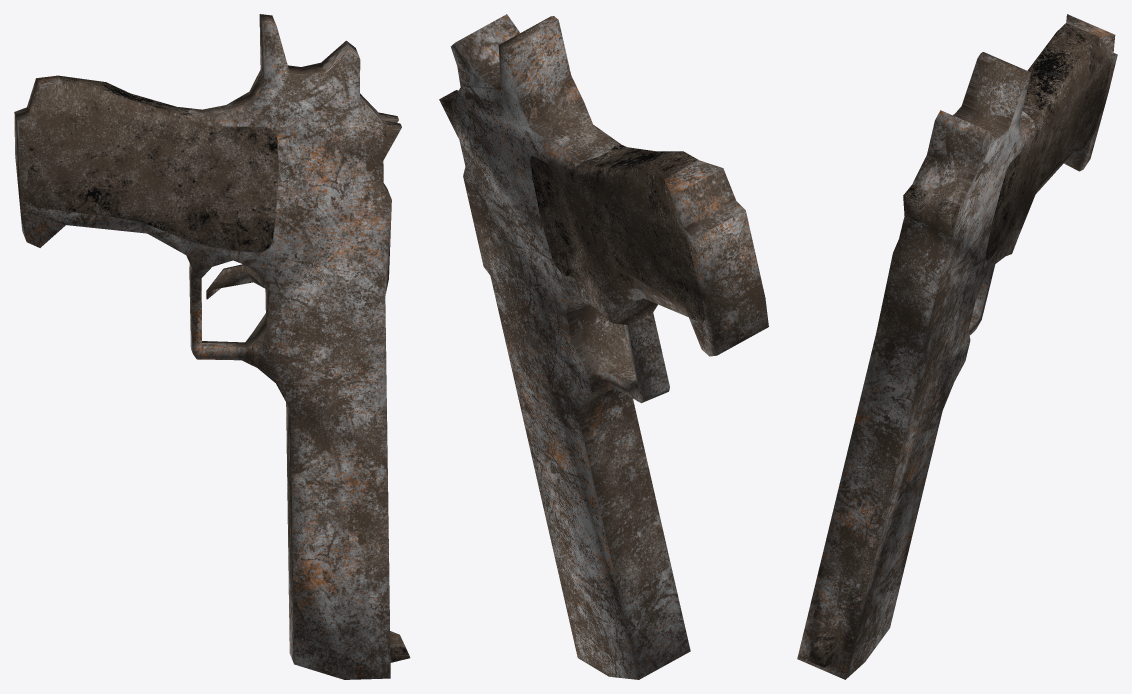
Rendered from Anim_disparar_pistola_objetos.0018.obj.
The picture shows the model from 3 angles, left to right: view 1: azimuth 30°, elevation 25°; view 2: azimuth 150°, elevation 25°; view 3: azimuth 270°, elevation 25°; orthographic projection. The views are drawn at different scales.
Visible parts, largest first — view 1: Pistola1; view 2: Pistola1; view 3: Pistola1.
Part boxes in pixels (bbox=[...]): Pistola1: bbox=[14, 14, 410, 679]; Pistola1: bbox=[439, 14, 768, 679]; Pistola1: bbox=[797, 14, 1117, 679].
Bounding box in the file's own units: 0.9572 × 1.7 × 0.8163.
